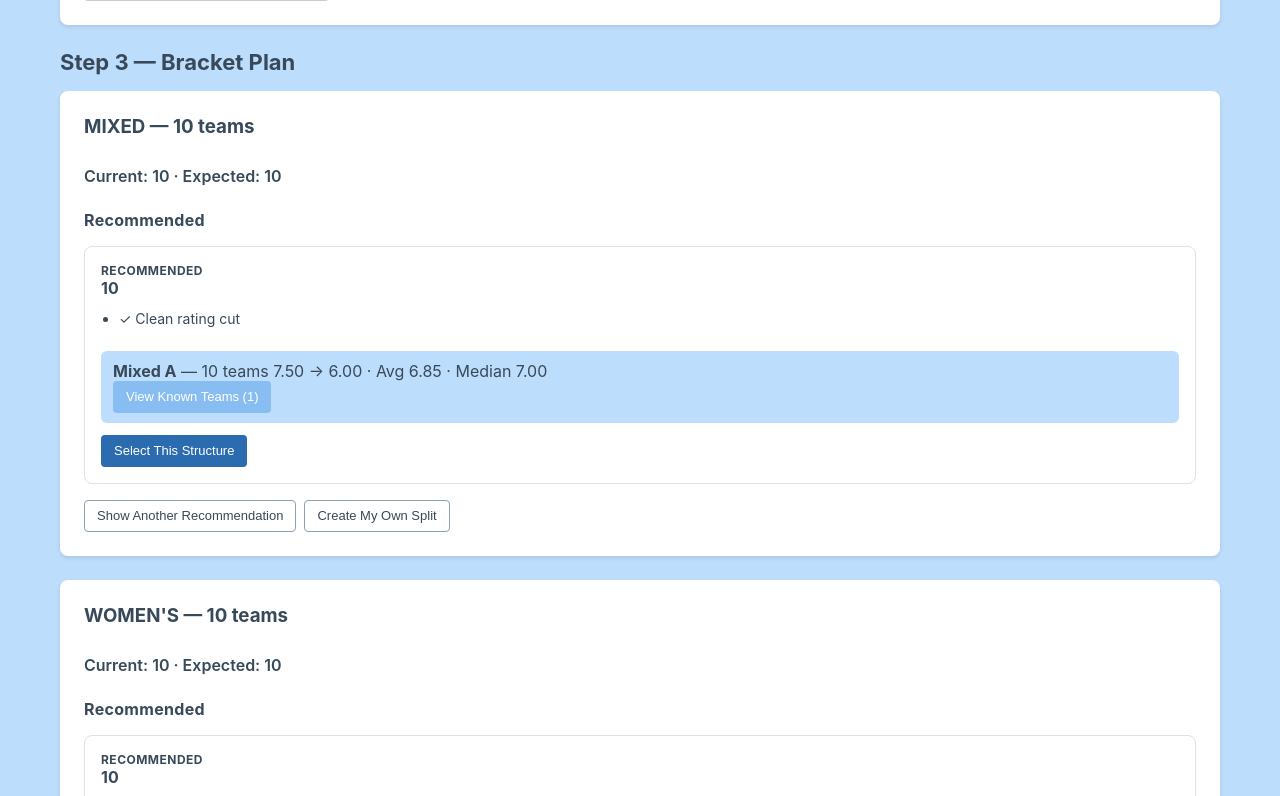
Test case: CreateTournamentFromRwOs Step 3 workflow › still shows conflict protection and Known Teams
(page scrolled)
Expected: the heading "Step 3 — Bracket Plan" is shown, [60,49,295,75]
Click the button "View Known Teams (1)": (192,397) [113,381,272,413]
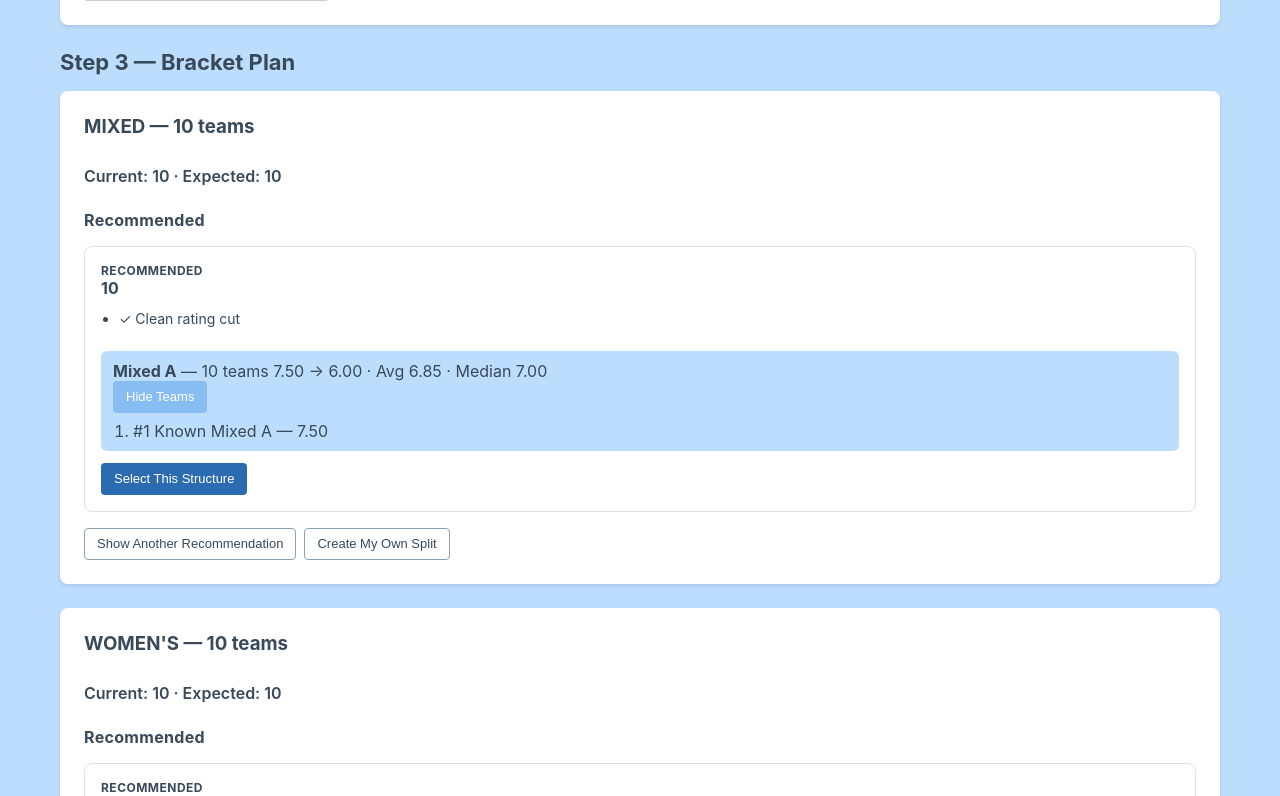
Result: the list item "#1 Known Mixed A — 7.50" is shown at [133,421,328,441]
